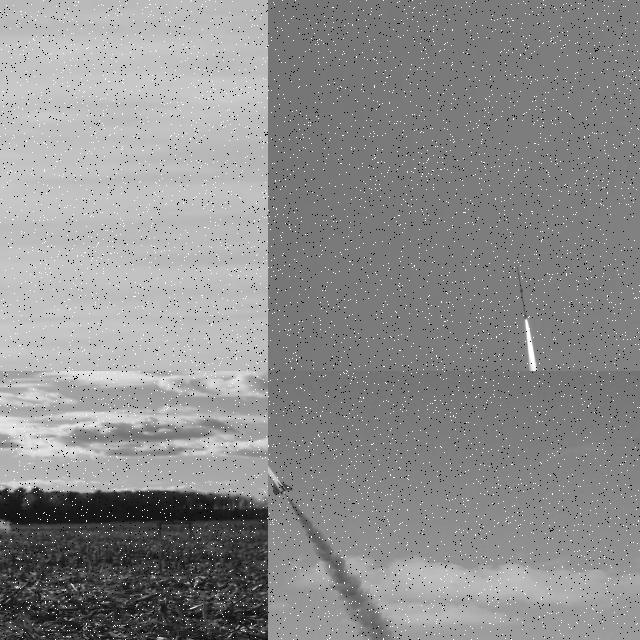Rocket: (268, 439, 293, 495), (517, 264, 528, 320)
